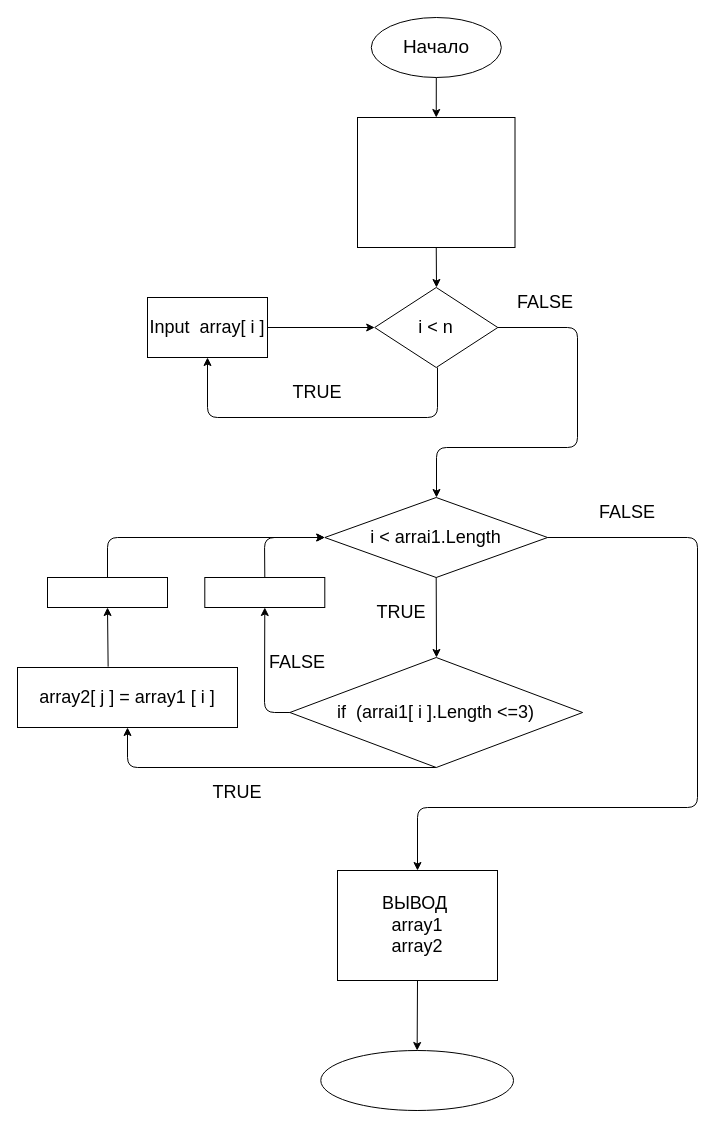
This 723x1128 diagram has some shape labels left out. The centre of each missing label's shape, as x and y in pixels:
i =i+1: (264,592)
j =j+1: (107,592)
string [ ] array1 string [ ] array2 n i = 0 j = 0: (435,182)
ОКОНЧАНИЕ: (417,1080)
